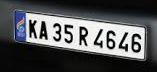3: (51, 21, 62, 42)
4: (119, 30, 129, 52), (94, 28, 104, 49)
5: (63, 22, 75, 45)
6: (105, 29, 118, 50), (131, 32, 142, 54)
A: (39, 20, 48, 41)
K: (27, 18, 38, 39)
R: (78, 25, 90, 47)
